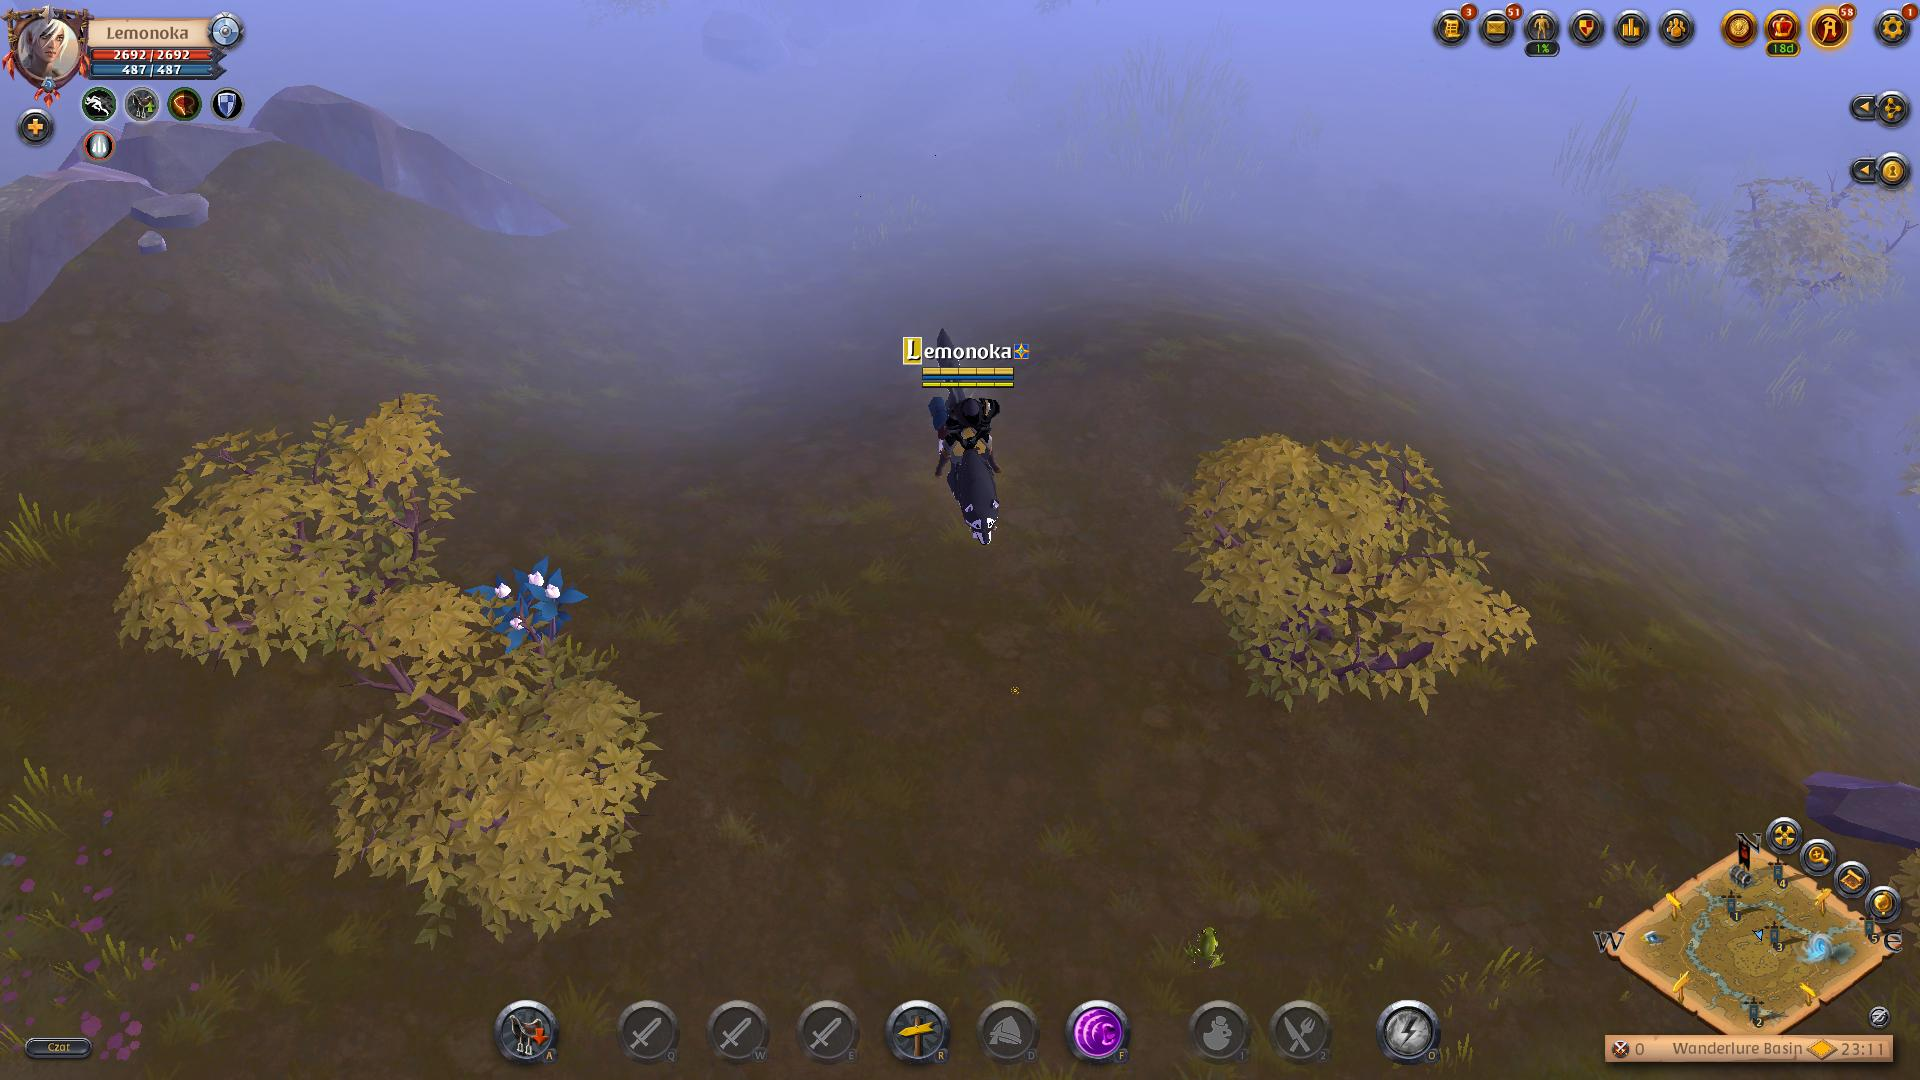fiber tier 4: (465, 555, 592, 657)
